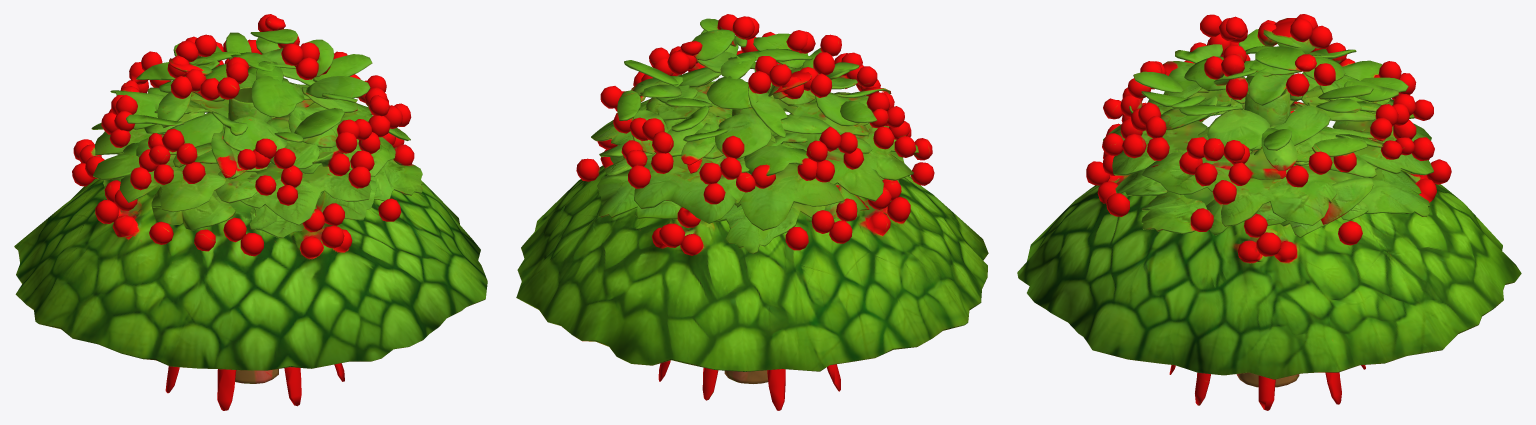
Rendered from berry.glb.
3 renders of one model, left to right at view 1: azimuth 30°, elevation 25°; view 2: azimuth 150°, elevation 25°; view 3: azimuth 270°, elevation 25°, orthographic. The views are drawn at different scales.
Bounding box in the file's own units: 1.89 × 1.42 × 1.89.
1 material, 1 textured.
